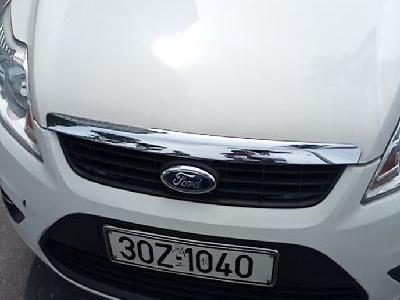car: (103, 227, 279, 288)
